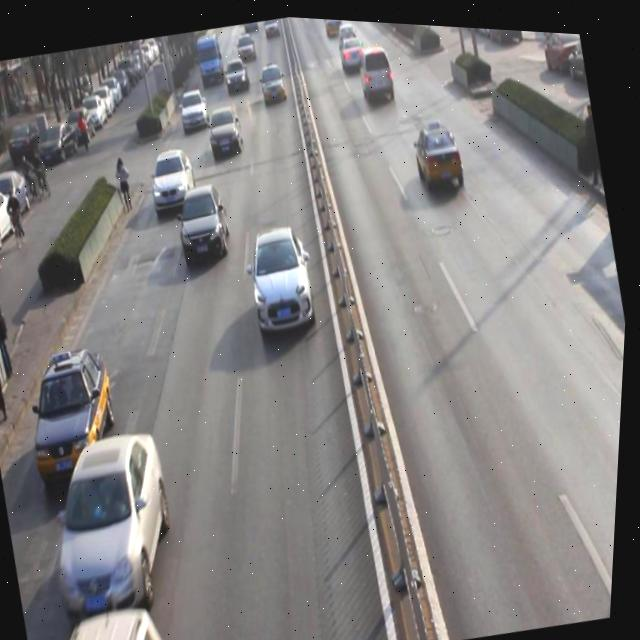car: (37, 429, 198, 625), (19, 342, 132, 486), (242, 217, 326, 337), (43, 600, 196, 640), (173, 179, 240, 266), (408, 111, 471, 194), (142, 139, 205, 214), (204, 104, 249, 159), (176, 80, 214, 132), (257, 60, 291, 106), (222, 51, 254, 94), (336, 28, 368, 67), (233, 26, 259, 64)
truck: (354, 36, 403, 106), (191, 26, 231, 87)
